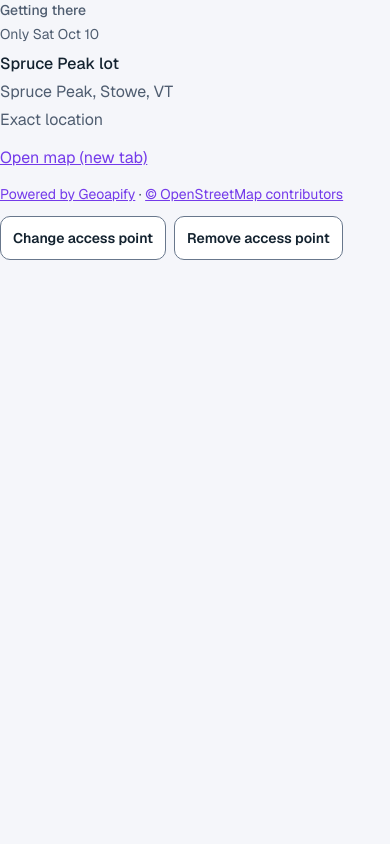
Scenario: Getting there on a trip day › keeps the day's own point apart from its stop's, and removing it goes back to the stop's
Expected: the text "Spruce Peak lot" is shown, [0,53,119,74]
Expected: the text "Only Sat Oct 10" is shown, [0,25,99,43]
Click the button "Remove access point" at {"x": 258, "y": 238}, box [174,216,343,260]
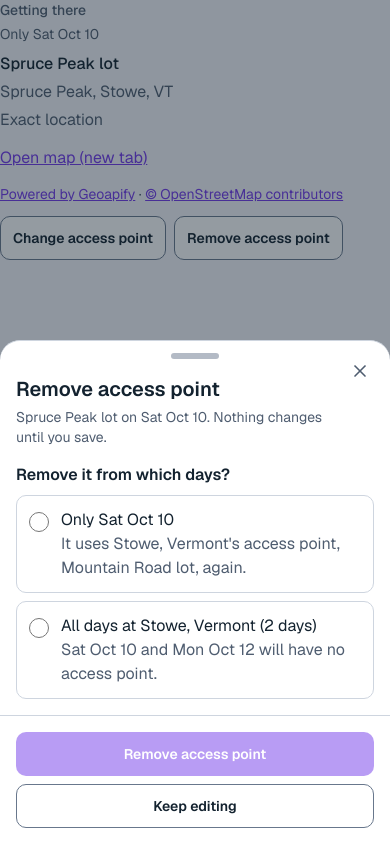
Expected: the radio button labelled "Only Sat Oct 10 It uses Stowe, Vermont's access point, Mountain Road lot, again." is shown, [29,512,49,532]
Expected: the radio button labelled "All days at Stowe, Vermont (2 days)" is shown, [29,618,49,638]
